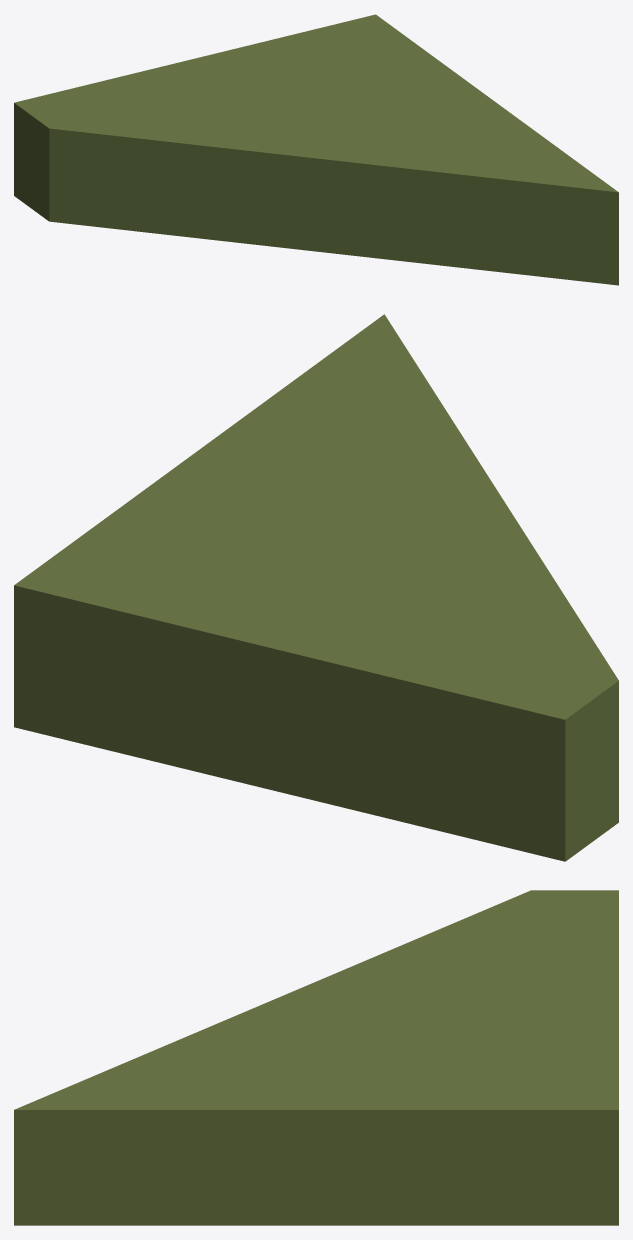
The model's file is ground_10.fbx.
The picture shows the model from 3 angles, top to bottom: view 1: azimuth 30°, elevation 25°; view 2: azimuth 150°, elevation 25°; view 3: azimuth 270°, elevation 25°; orthographic projection. The views are drawn at different scales.
Parts seen in each view (by area): view 1: ground_10; view 2: ground_10; view 3: ground_10.
Part boxes in pixels (bbox=[...]): ground_10: bbox=[14, 14, 618, 285]; ground_10: bbox=[14, 314, 618, 861]; ground_10: bbox=[14, 890, 618, 1225].
Size of the model in its own units: 9.91 by 2.44 by 11.54.
